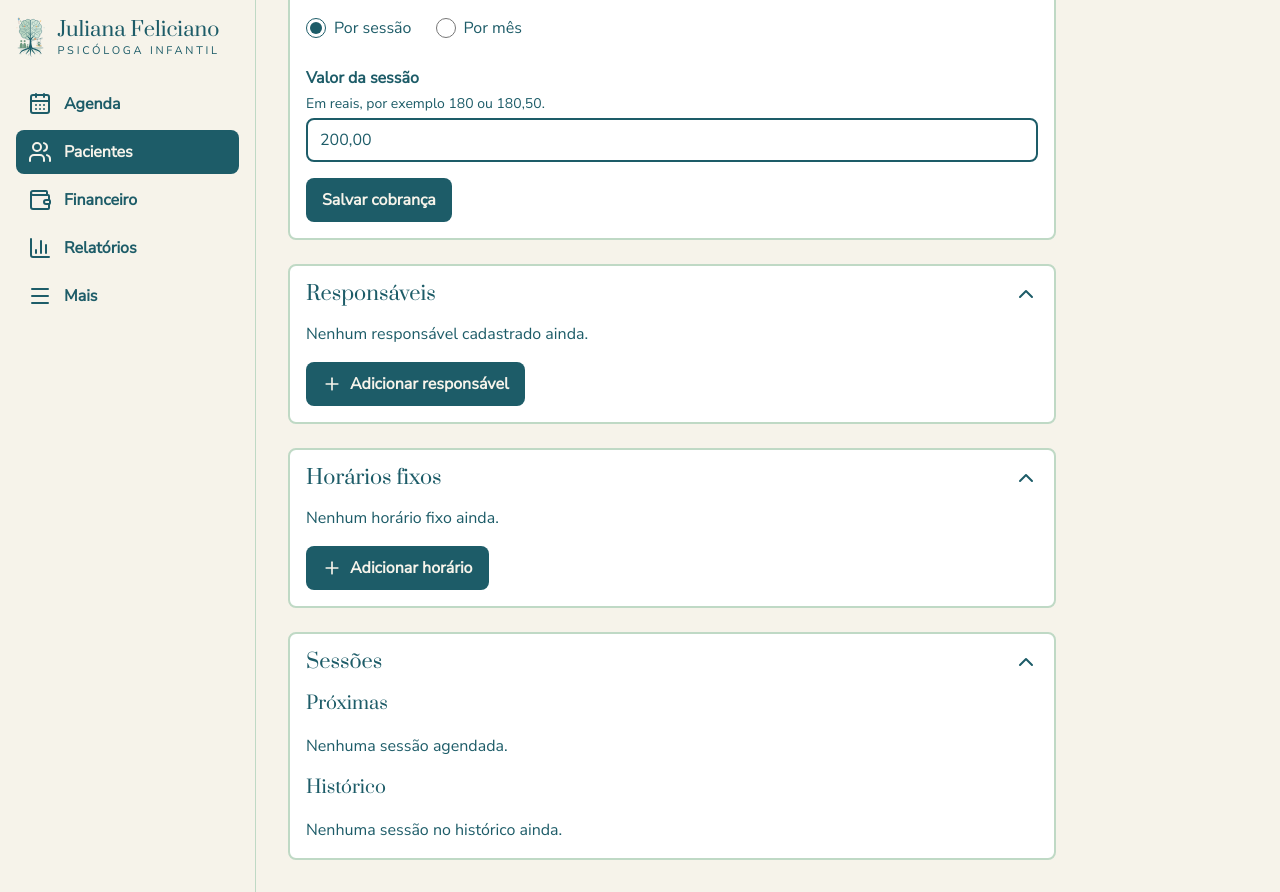
Test: SecaoHorarios › adicionar › usa o número de semanas das configurações
(page scrolled)
Click the button "Adicionar horário" at {"x": 397, "y": 568}, box left=306, top=546, right=488, bottom=590
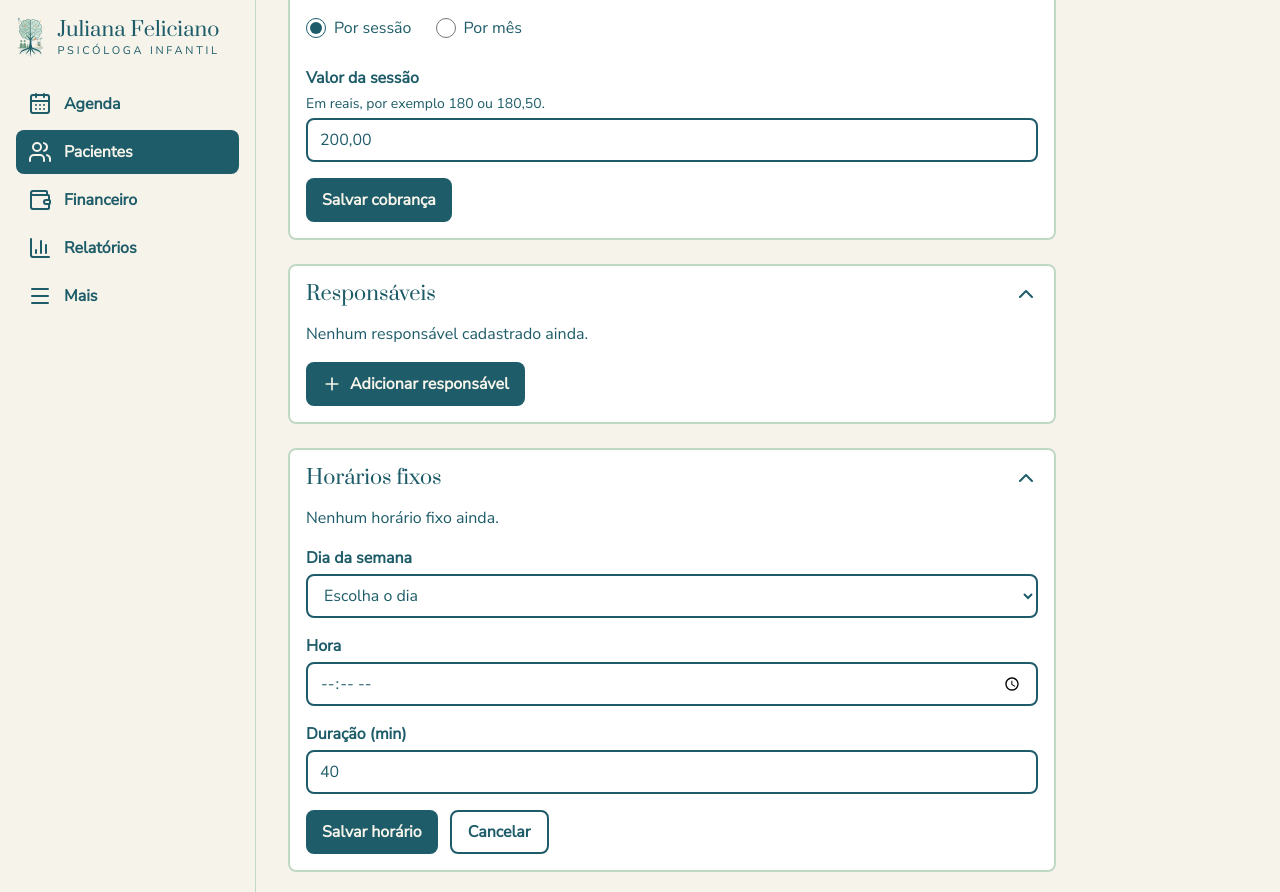
Check: the number field labelled "Duração (min)" holds "40", box left=306, top=750, right=1038, bottom=794
Select "Terça" in the dropdown labelled "Dia da semana" at {"x": 672, "y": 596}, box left=306, top=574, right=1038, bottom=618
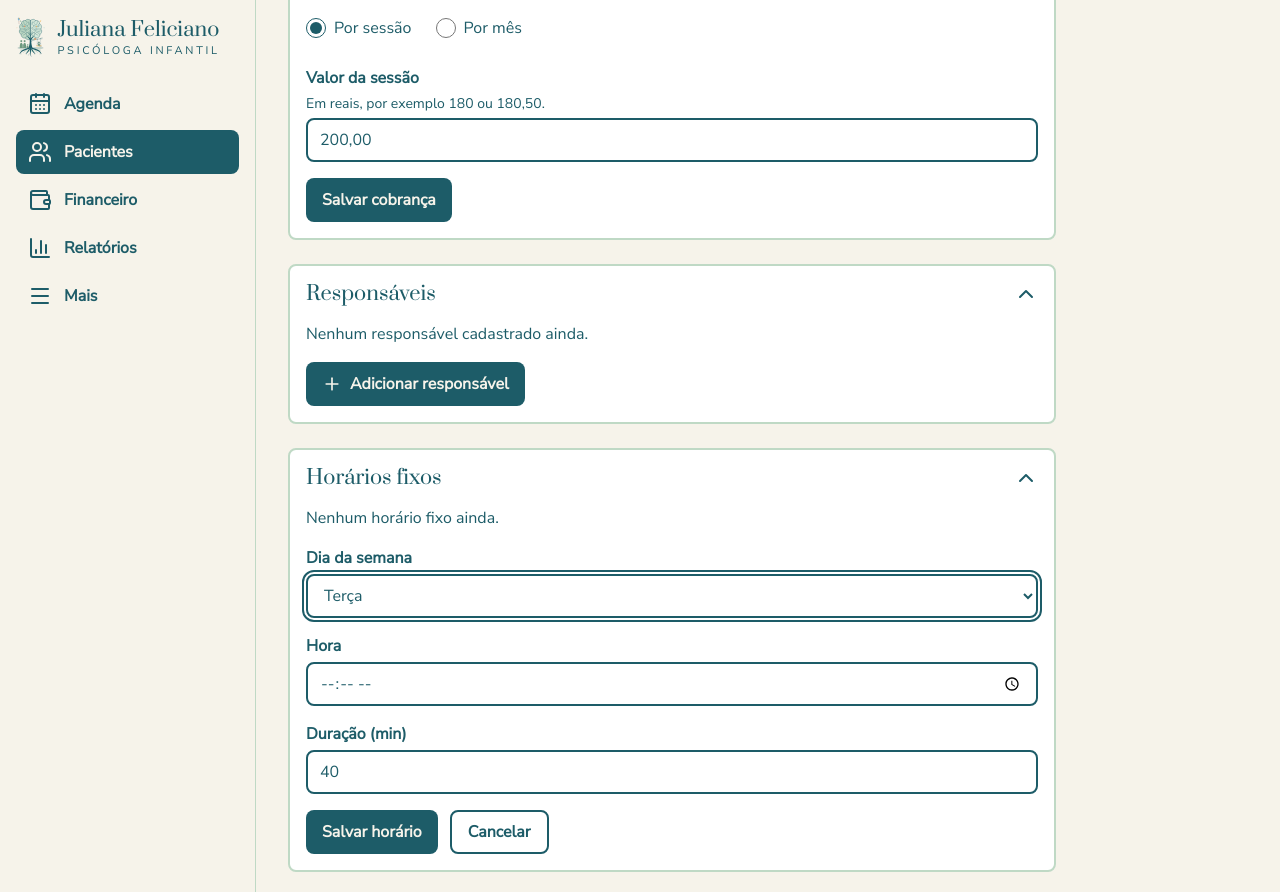
Type "09:30" into the time field labelled "Hora" at {"x": 672, "y": 684}, box left=306, top=662, right=1038, bottom=706
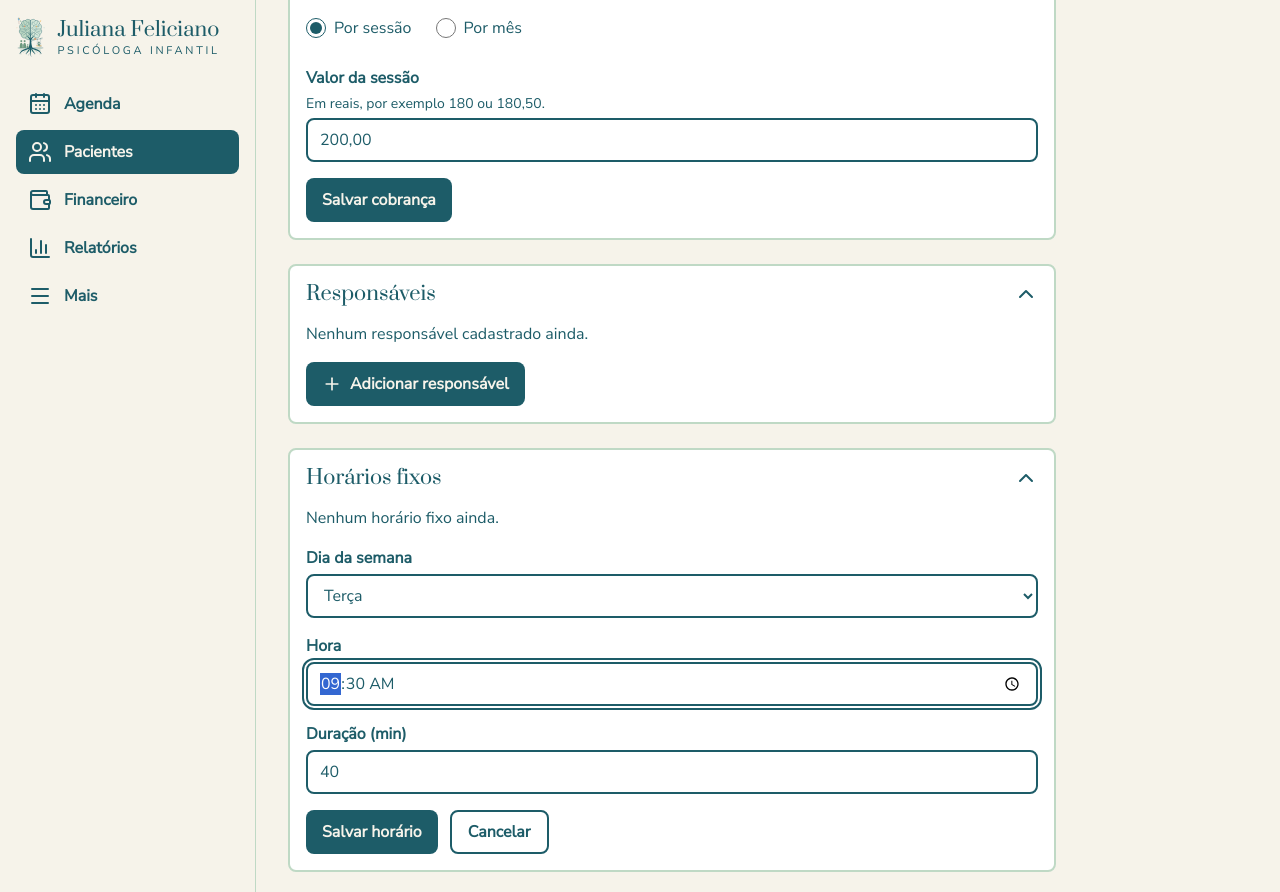
Click the button "Salvar horário" at {"x": 372, "y": 832}, box left=306, top=810, right=438, bottom=854
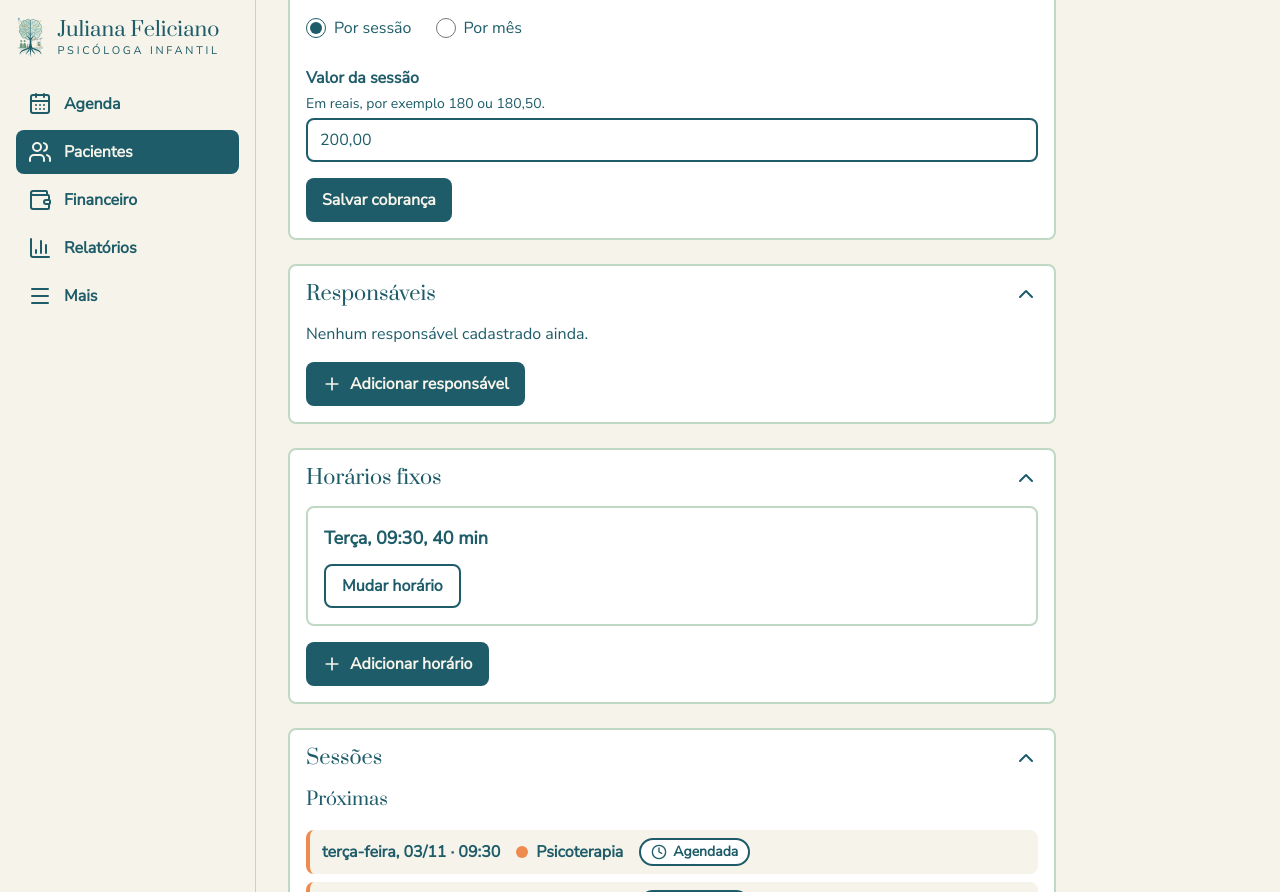
Check: the text "Terça, 09:30, 40 min" is shown, box left=324, top=524, right=488, bottom=552
